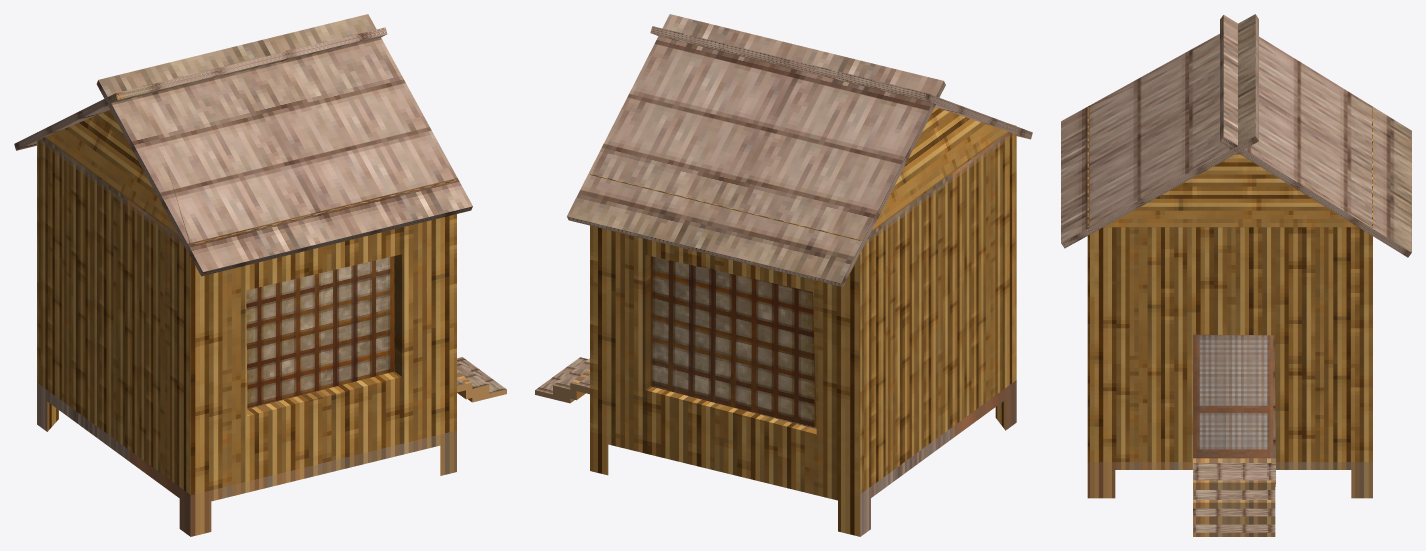
The model's file is House5.fbx.
3 renders of one model, left to right at view 1: azimuth 30°, elevation 25°; view 2: azimuth 150°, elevation 25°; view 3: azimuth 270°, elevation 25°, orthographic. The views are drawn at different scales.
Visible parts, largest first — view 1: Cube, Cube.001, Cube.002; view 2: Cube, Cube.002, Cube.001; view 3: Cube, Cube.001, Cube.002.
Part boxes in pixels (bbox=[...]): Cube: bbox=[37, 109, 506, 536]; Cube.001: bbox=[96, 14, 472, 276]; Cube.002: bbox=[14, 27, 387, 150]; Cube: bbox=[535, 98, 1016, 536]; Cube.002: bbox=[567, 14, 945, 287]; Cube.001: bbox=[650, 26, 1032, 139]; Cube: bbox=[1087, 74, 1372, 536]; Cube.001: bbox=[1061, 14, 1258, 248]; Cube.002: bbox=[1220, 15, 1411, 257].
Size of the model in its own units: 1916 by 1912 by 1674.
Materials: 2 (2 with a texture image).
